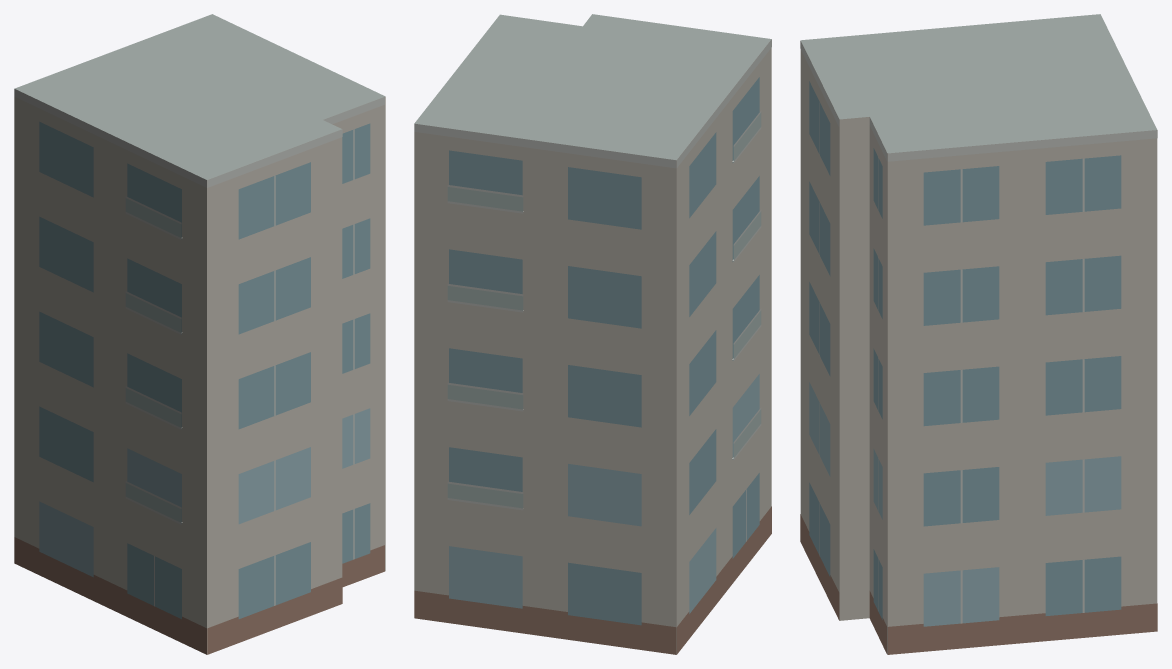
The model's file is survey-upis-32809817.glb.
The picture shows the model from 3 angles, left to right: view 1: azimuth 30°, elevation 25°; view 2: azimuth 150°, elevation 25°; view 3: azimuth 270°, elevation 25°; orthographic projection. The views are drawn at different scales.
Visible parts, largest first — view 1: survey-upis-32809817.tmp; view 2: survey-upis-32809817.tmp; view 3: survey-upis-32809817.tmp.
Part boxes in pixels (x1,y1,x2,y2): survey-upis-32809817.tmp: (14,14,385,654); survey-upis-32809817.tmp: (414,14,771,654); survey-upis-32809817.tmp: (800,14,1157,654).
Size of the model in its own units: 8.78 by 14.7 by 9.49.
